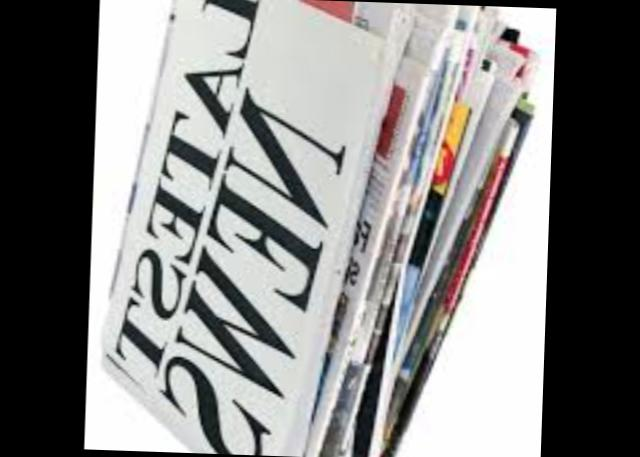cardboard paper: (99, 0, 531, 457)
